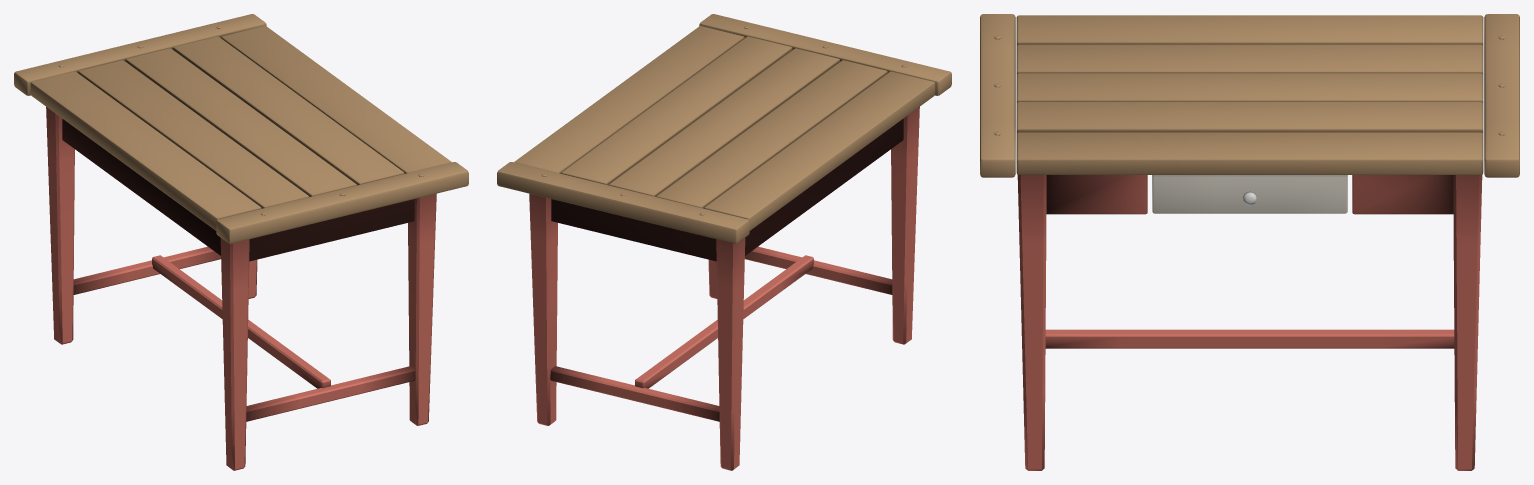
File: nd_table.glb
The picture shows the model from 3 angles, left to right: view 1: azimuth 30°, elevation 25°; view 2: azimuth 150°, elevation 25°; view 3: azimuth 270°, elevation 25°; orthographic projection. The views are drawn at different scales.
Visible parts, largest first — view 1: PART; view 2: PART; view 3: PART, P_drawer.
Boxes of the visible parts, bbox=[...] form: PART: bbox=[14, 14, 468, 470]; PART: bbox=[497, 14, 951, 470]; PART: bbox=[980, 14, 1519, 470]; P_drawer: bbox=[1152, 175, 1347, 213].
Size of the model in its own units: 0.732 by 0.7627 by 1.14.
